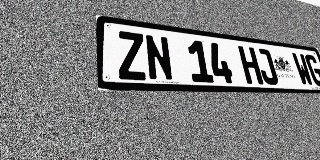1: (186, 39, 214, 83)
4: (207, 42, 234, 83)
G: (304, 54, 320, 86)
H: (238, 46, 264, 84)
J: (254, 48, 280, 85)
N: (144, 34, 174, 81)
W: (291, 52, 314, 86)
Z: (116, 30, 148, 80)
